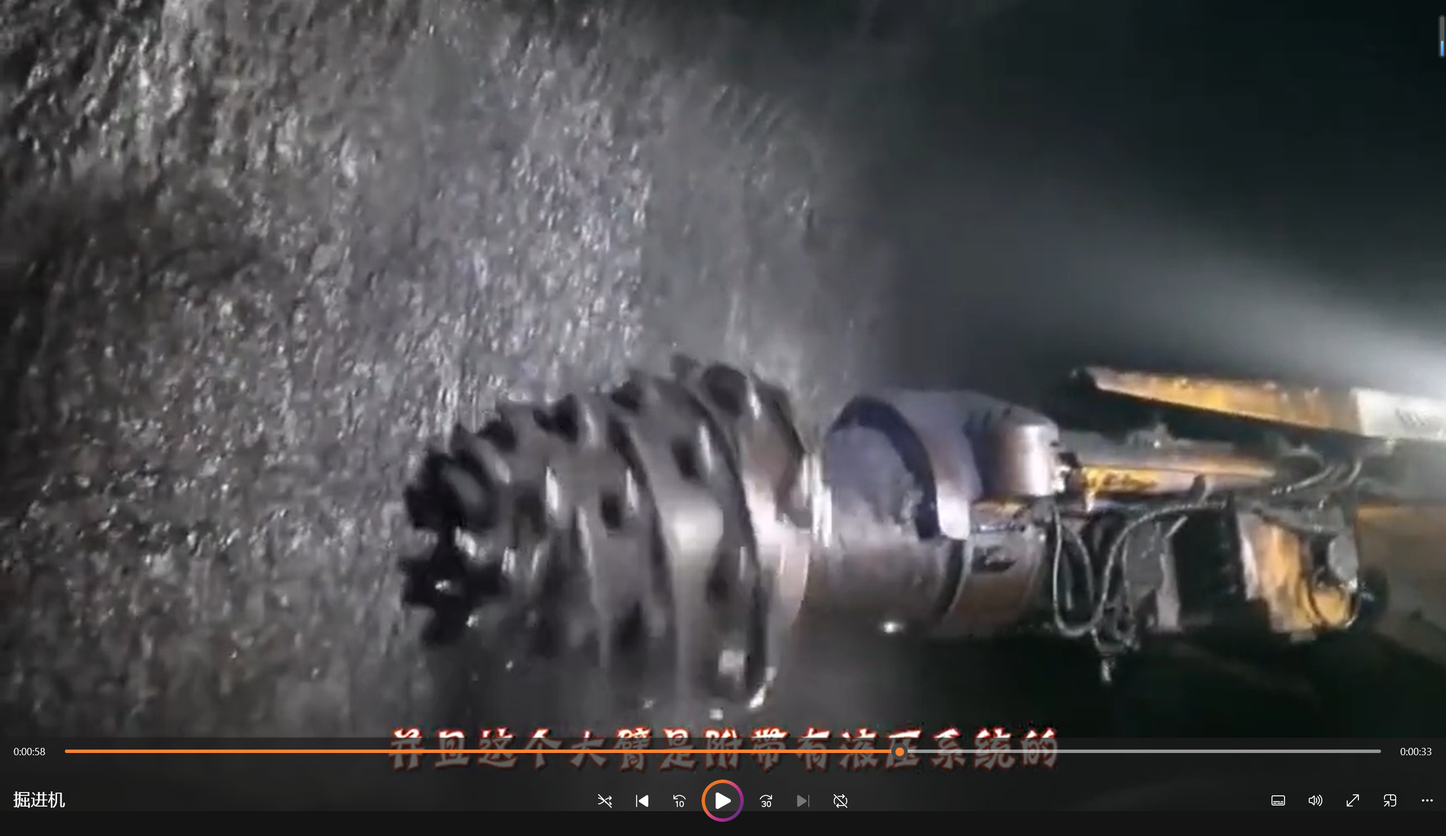person: (417, 361, 1441, 709)
